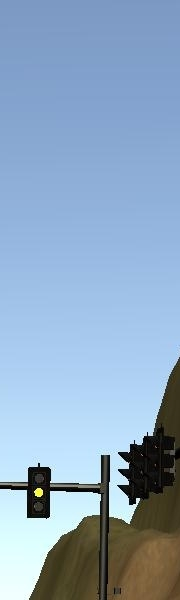Yellow: (26, 467, 51, 520)
